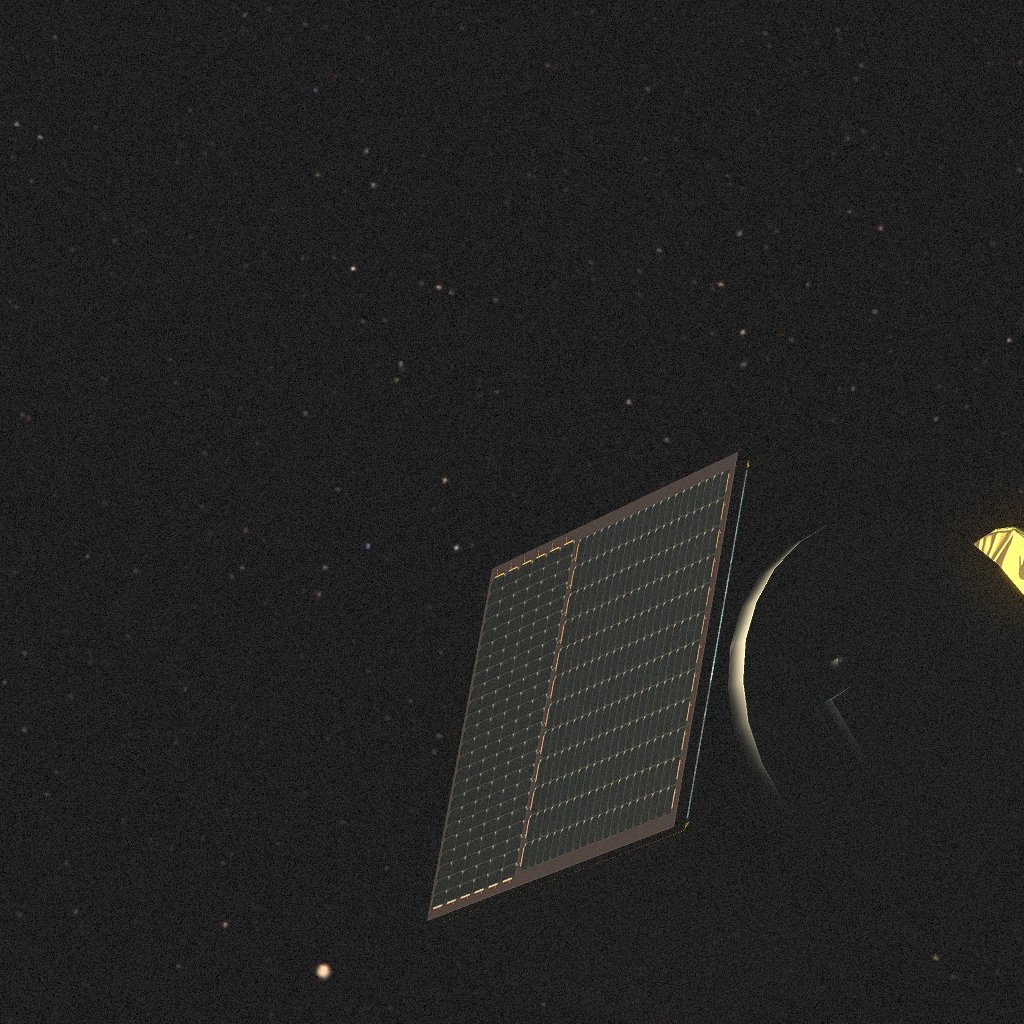cheops: (427, 440, 1024, 1024)
